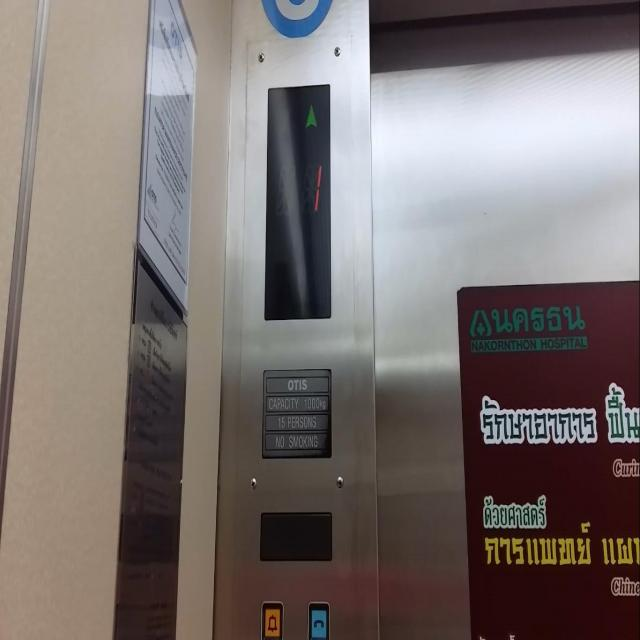alarm: (258, 598, 284, 639)
call: (306, 598, 332, 639)
led: (262, 80, 333, 325), (257, 504, 335, 564)
